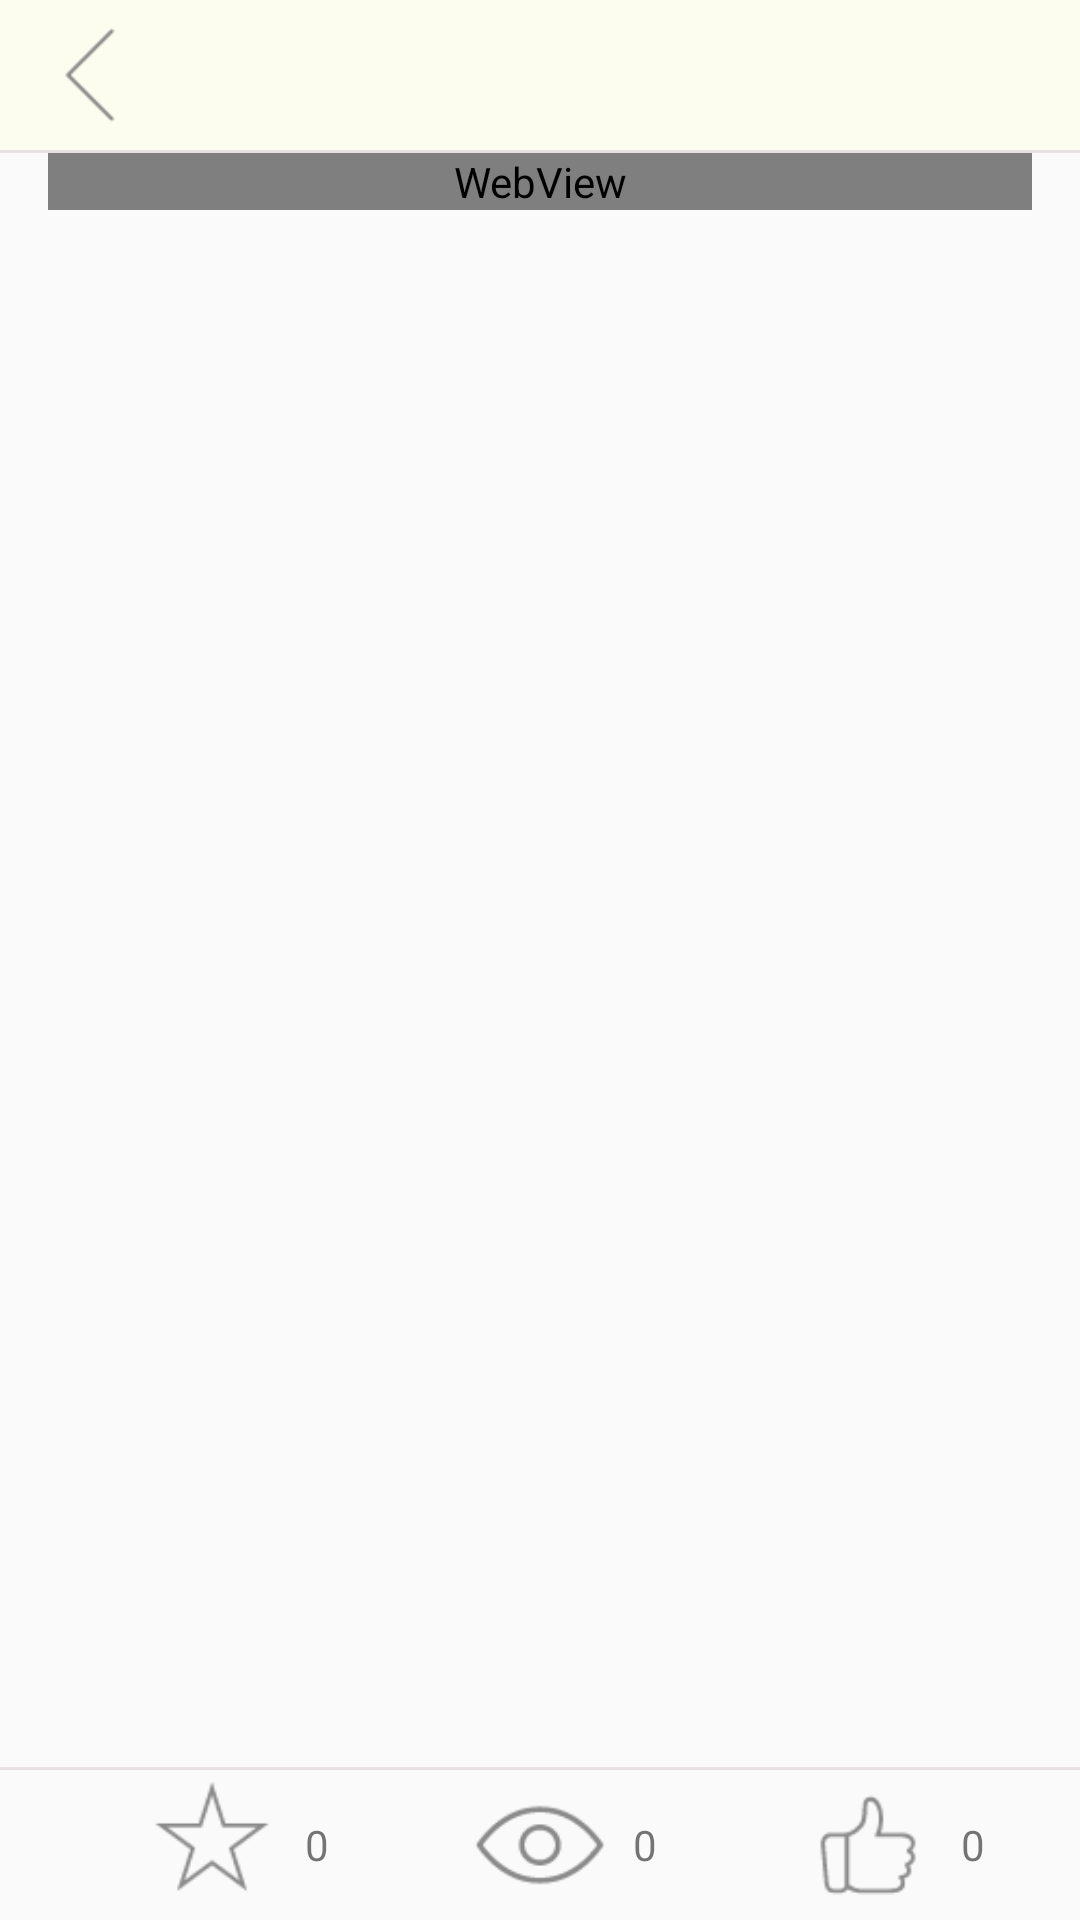

Locate icon controls on the screen. Image size 1080*1920, boxes as (x1, y1, x2, y2).
back: (65, 29, 114, 121)
browse: (476, 1806, 604, 1884)
collection false: (156, 1783, 268, 1891)
praise false: (820, 1796, 916, 1894)
